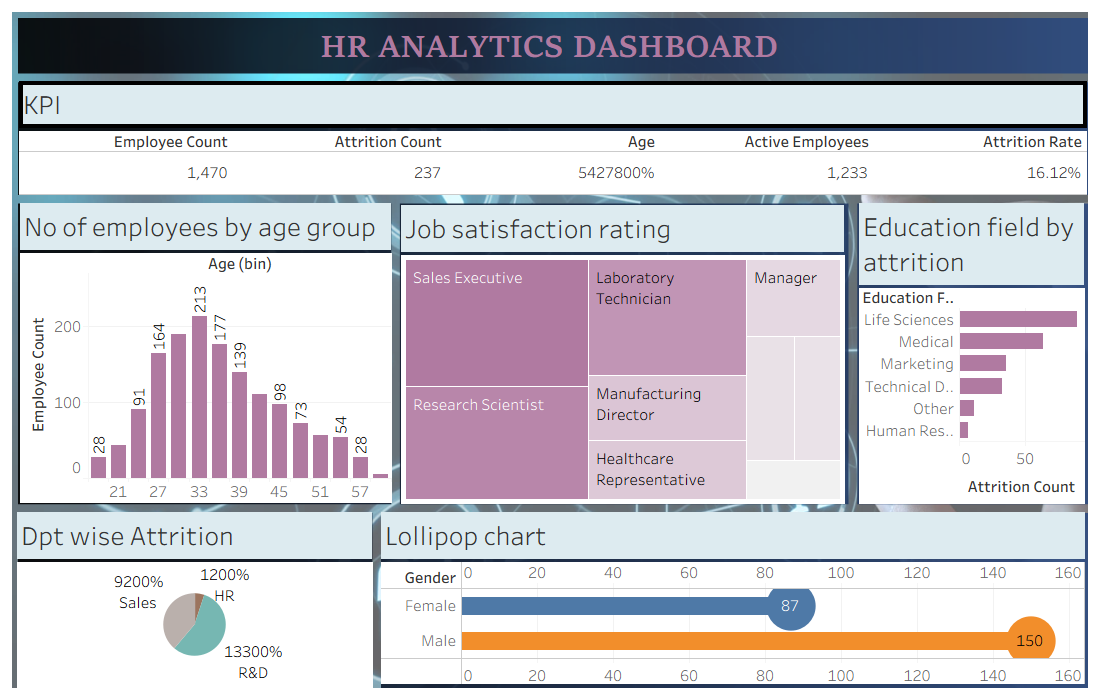

This screenshot's page, from the dashboard's own definition file:
{"tool":"tableau","page":{"name":"HR Analytics Dashboard","canvas":[1100,700],"ordinal":0},"visuals":[{"type":"image","param":"C:/Users/DELL/Downloads/HR background.png","box":[8,8,1084,684]},{"type":"text","box":[18,21,1062,55]},{"type":"worksheet","title":"KPI","mark":"Automatic","box":[19,81,1068,114]},{"type":"worksheet","title":"No of employees by age group","mark":"Automatic","rows":["Employee Count"],"cols":["Age (bin)"],"box":[20,203,371,300]},{"type":"worksheet","title":"Education field by attrition","mark":"Automatic","rows":["Education Field"],"cols":["Calculation_0845305189511168"],"box":[859,203,225,301]},{"type":"worksheet","title":"Job satisfaction rating","mark":"Automatic","box":[401,205,447,298]},{"type":"worksheet","title":"Dpt wise Attrition","mark":"Pie","box":[17,512,355,175]},{"type":"worksheet","title":"Lollipop chart","mark":"Automatic","rows":["Gender"],"cols":["Calculation_0845305189511168","Calculation_0845305189511168"],"box":[381,512,704,174]}]}

Visuals, with their boxes in screenshot pixels (x1, y1, x2, y2), scaled from the page's 1100x700 canvas onto the 1100x700 screenshot:
image: crop(8, 8, 1092, 692)
text: crop(18, 21, 1080, 76)
"KPI" worksheet: crop(19, 81, 1087, 195)
"No of employees by age group" worksheet: crop(20, 203, 391, 503)
"Education field by attrition" worksheet: crop(859, 203, 1084, 504)
"Job satisfaction rating" worksheet: crop(401, 205, 848, 503)
"Dpt wise Attrition" worksheet (Pie marks): crop(17, 512, 372, 687)
"Lollipop chart" worksheet: crop(381, 512, 1085, 686)
